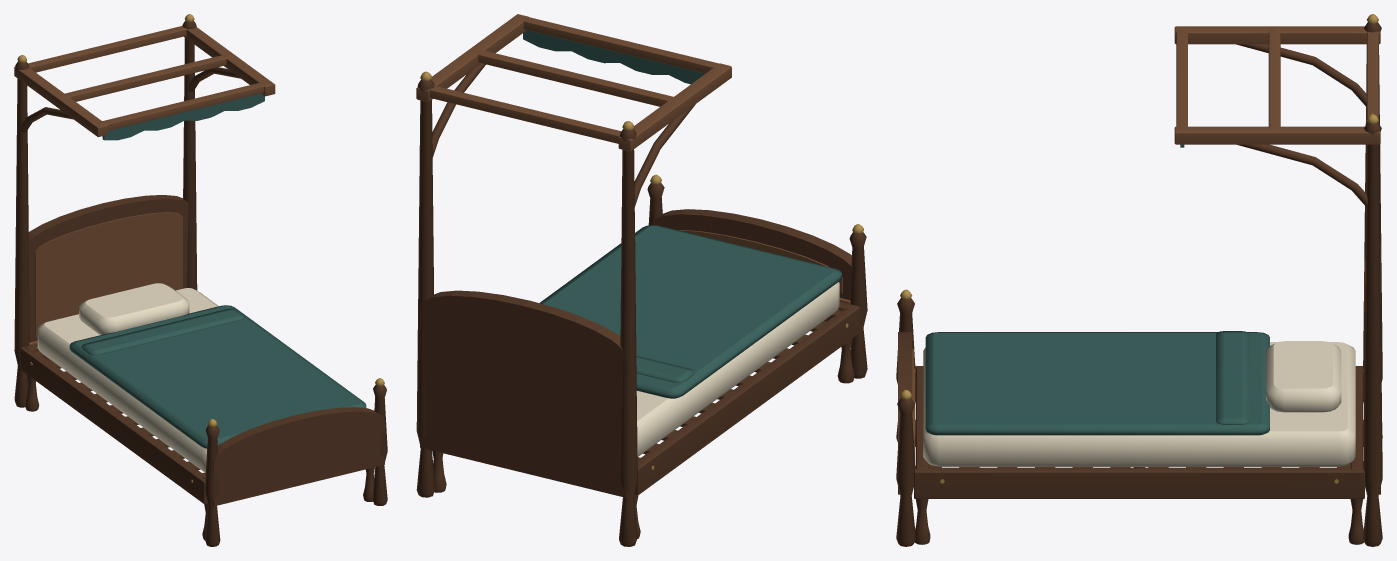
Rendered from rpg-mansion-half-tester-single-bed-01.glb.
3 views of the same model, side by side, from view 1: azimuth 30°, elevation 25°; view 2: azimuth 150°, elevation 25°; view 3: azimuth 270°, elevation 25° (orthographic). The views are drawn at different scales.
Visible parts, largest first — view 1: rpg-mansion-half-tester-single-bed-01; view 2: rpg-mansion-half-tester-single-bed-01; view 3: rpg-mansion-half-tester-single-bed-01.
Boxes of the visible parts, left/top/right/bottom form: rpg-mansion-half-tester-single-bed-01: left=14, top=14, right=387, bottom=546; rpg-mansion-half-tester-single-bed-01: left=416, top=14, right=867, bottom=546; rpg-mansion-half-tester-single-bed-01: left=896, top=14, right=1382, bottom=546.
Bounding box in the file's own units: 1.14 × 2.1 × 2.16.
